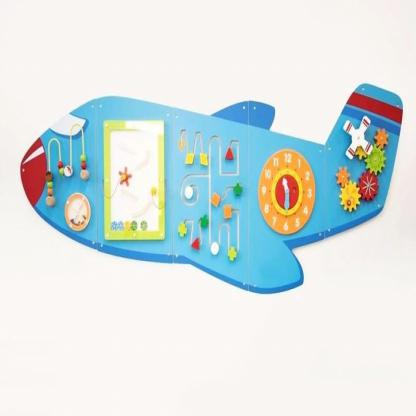CIV_Plane: (13, 80, 404, 310)
